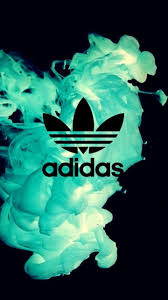adidas: (43, 96, 125, 178)
